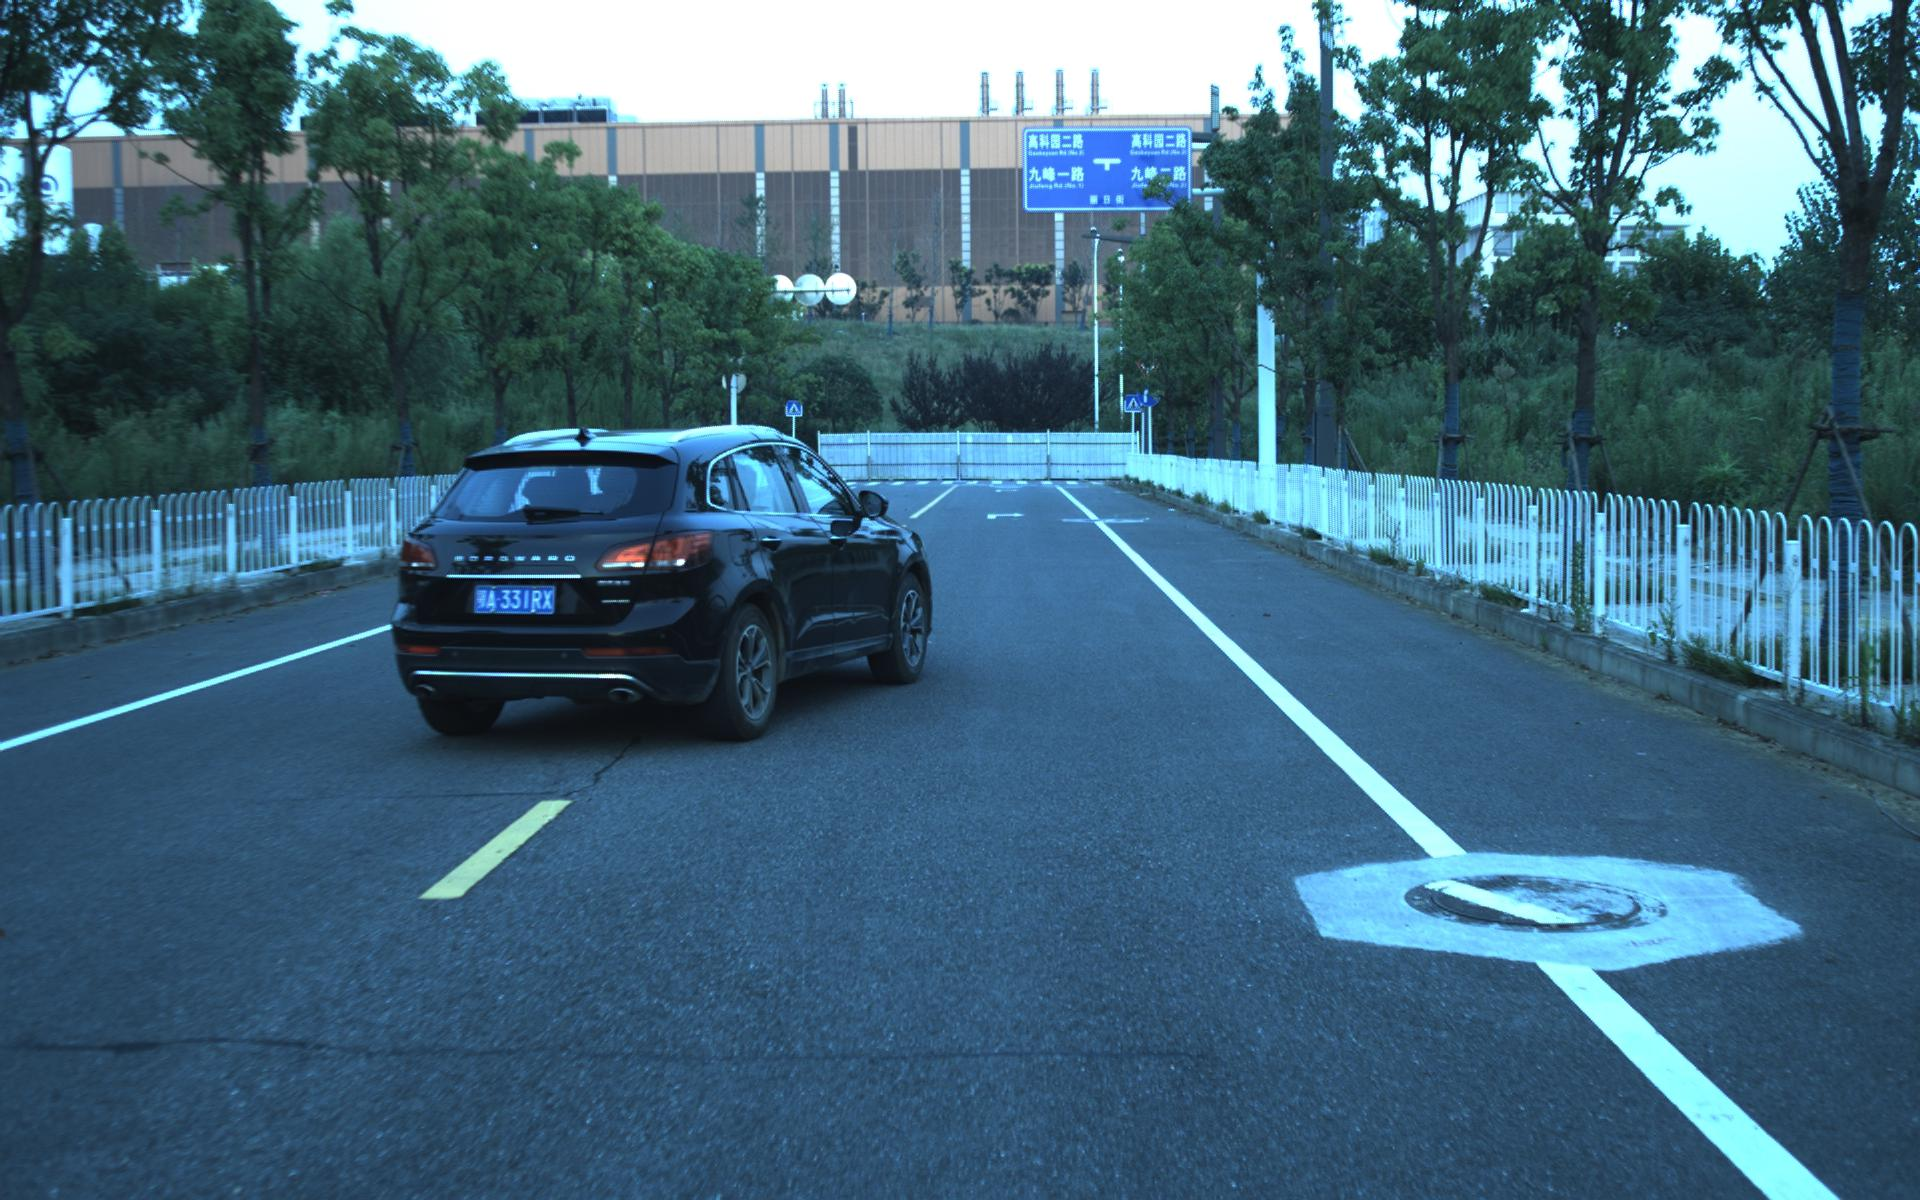Car: (368, 411, 939, 759)
